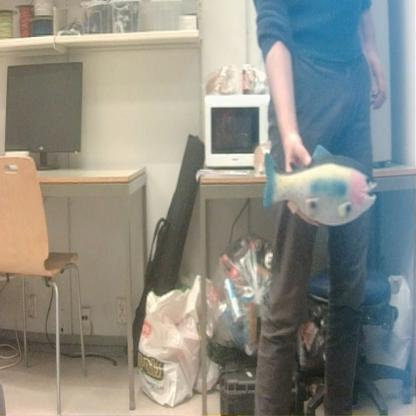rubberfish: (258, 141, 380, 231)
